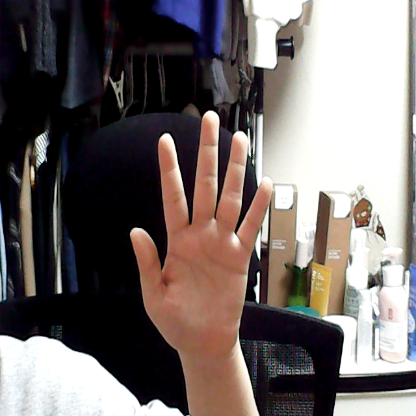Finger_5: (125, 97, 276, 368)
